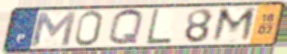0: (73, 9, 105, 48)
8: (183, 7, 215, 44)
L: (144, 8, 174, 46)
M: (209, 6, 259, 44), (29, 10, 79, 47)
Q: (107, 8, 146, 47)
